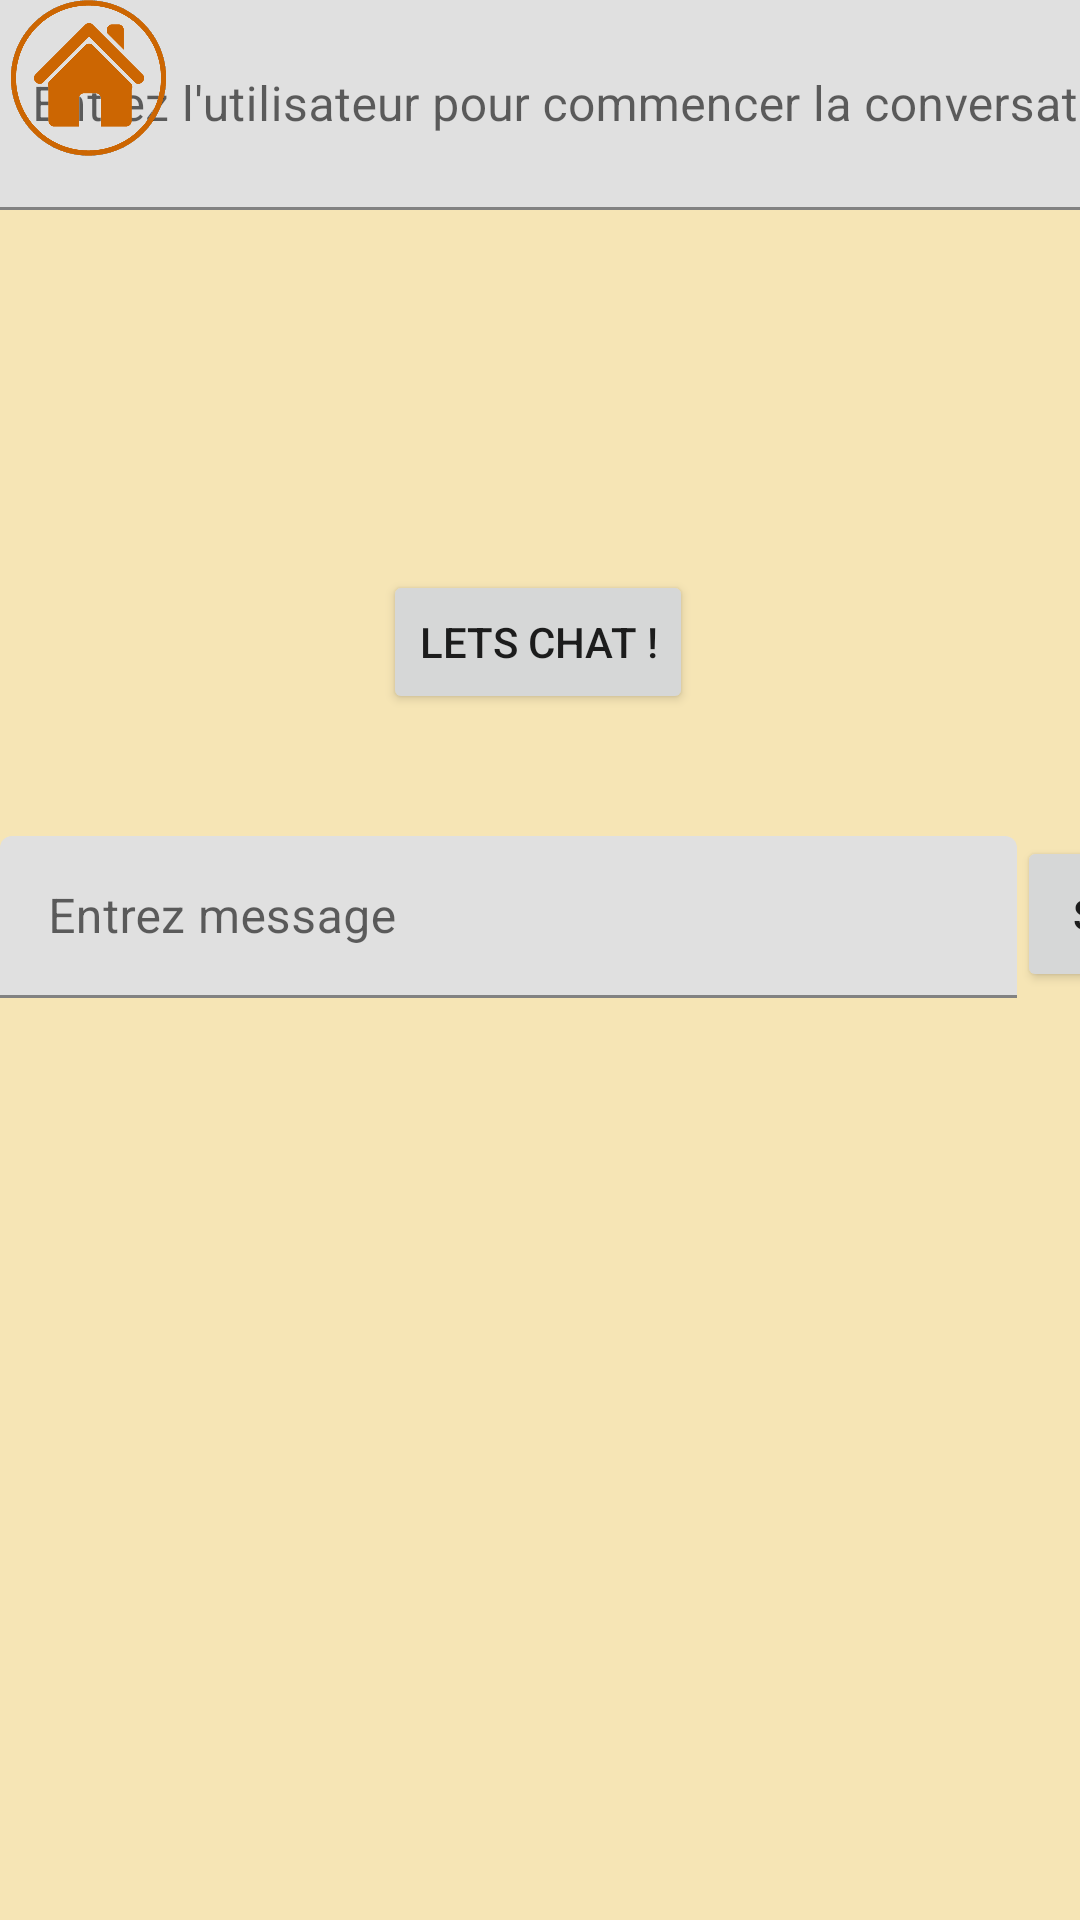

Where to tap for icons on this 1080px×1920px app screen, as (x=x, y=y):
home: (x=89, y=78)
